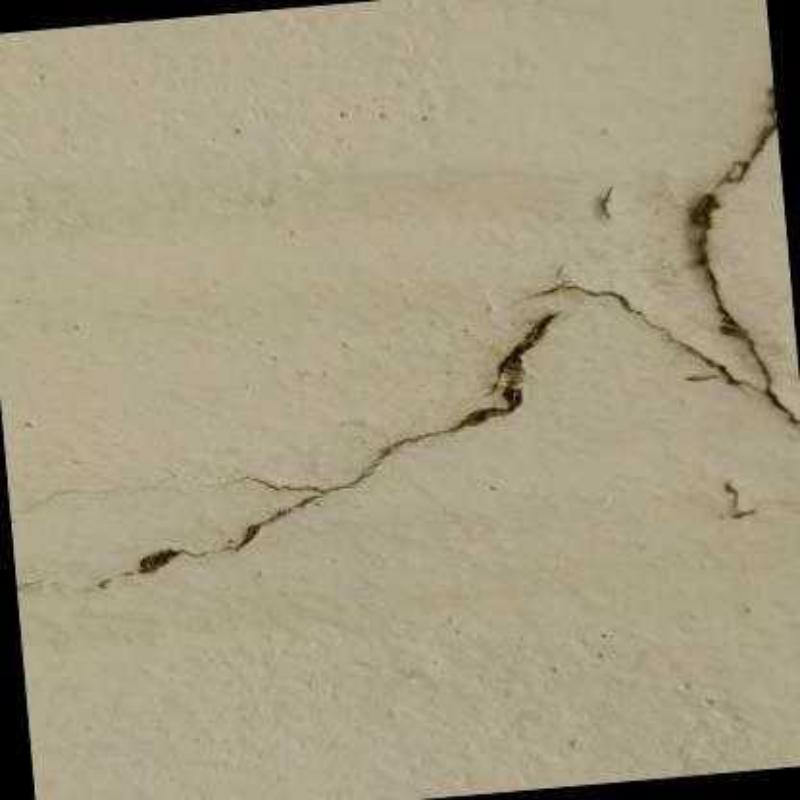crack: (94, 323, 557, 595), (522, 86, 798, 431), (10, 475, 256, 515)
